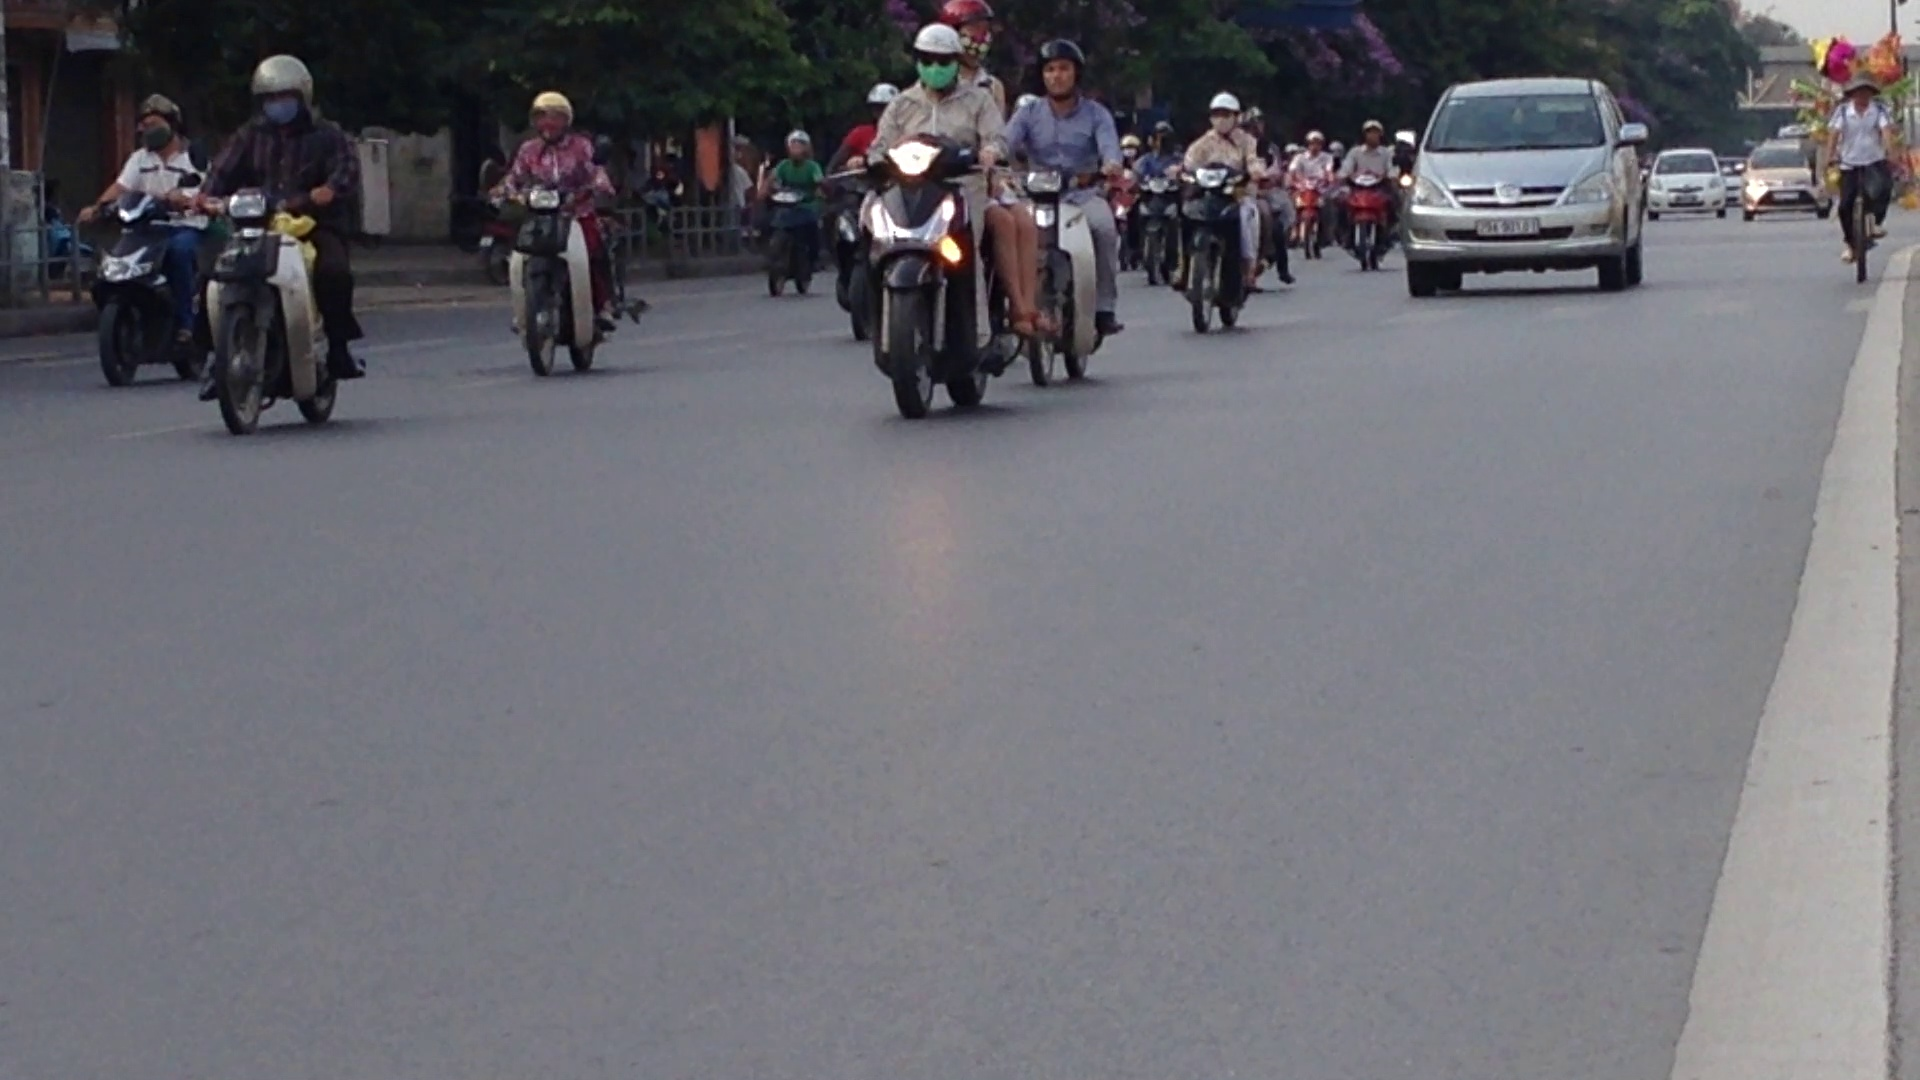vehicle-plate: (1473, 213, 1543, 236)
